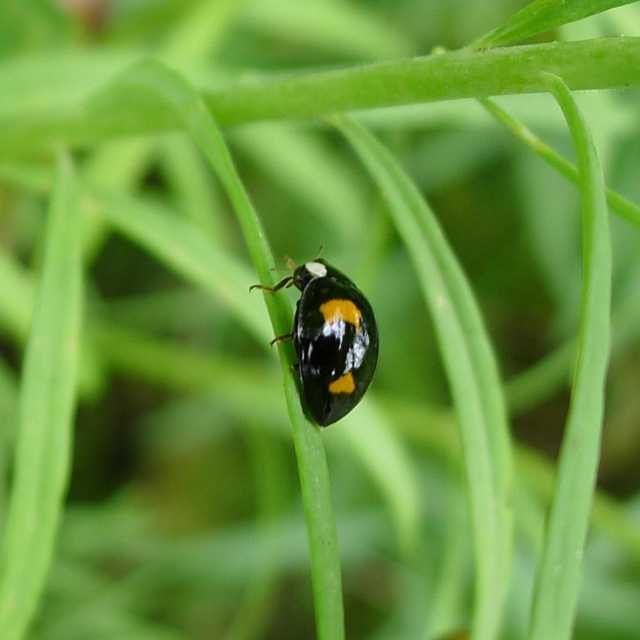Ladybug: (248, 245, 381, 426)
